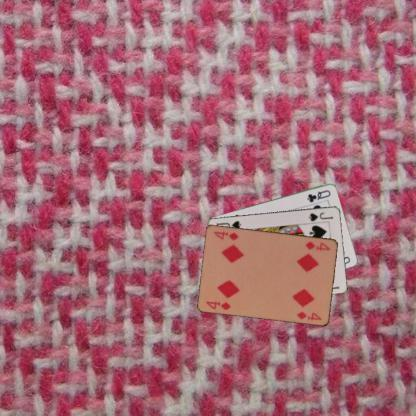4d: (302, 238, 332, 252), (204, 298, 233, 312)
Js: (306, 210, 334, 222)
Qc: (304, 188, 332, 204)
